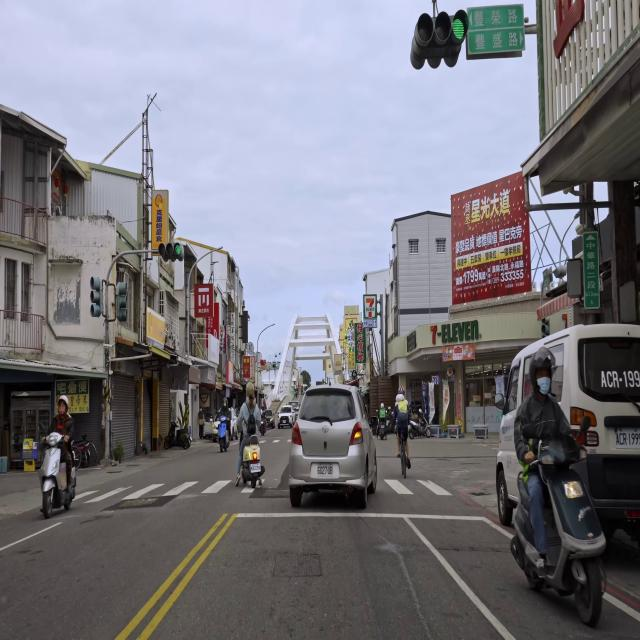green light: (414, 12, 470, 47), (158, 240, 182, 257)
